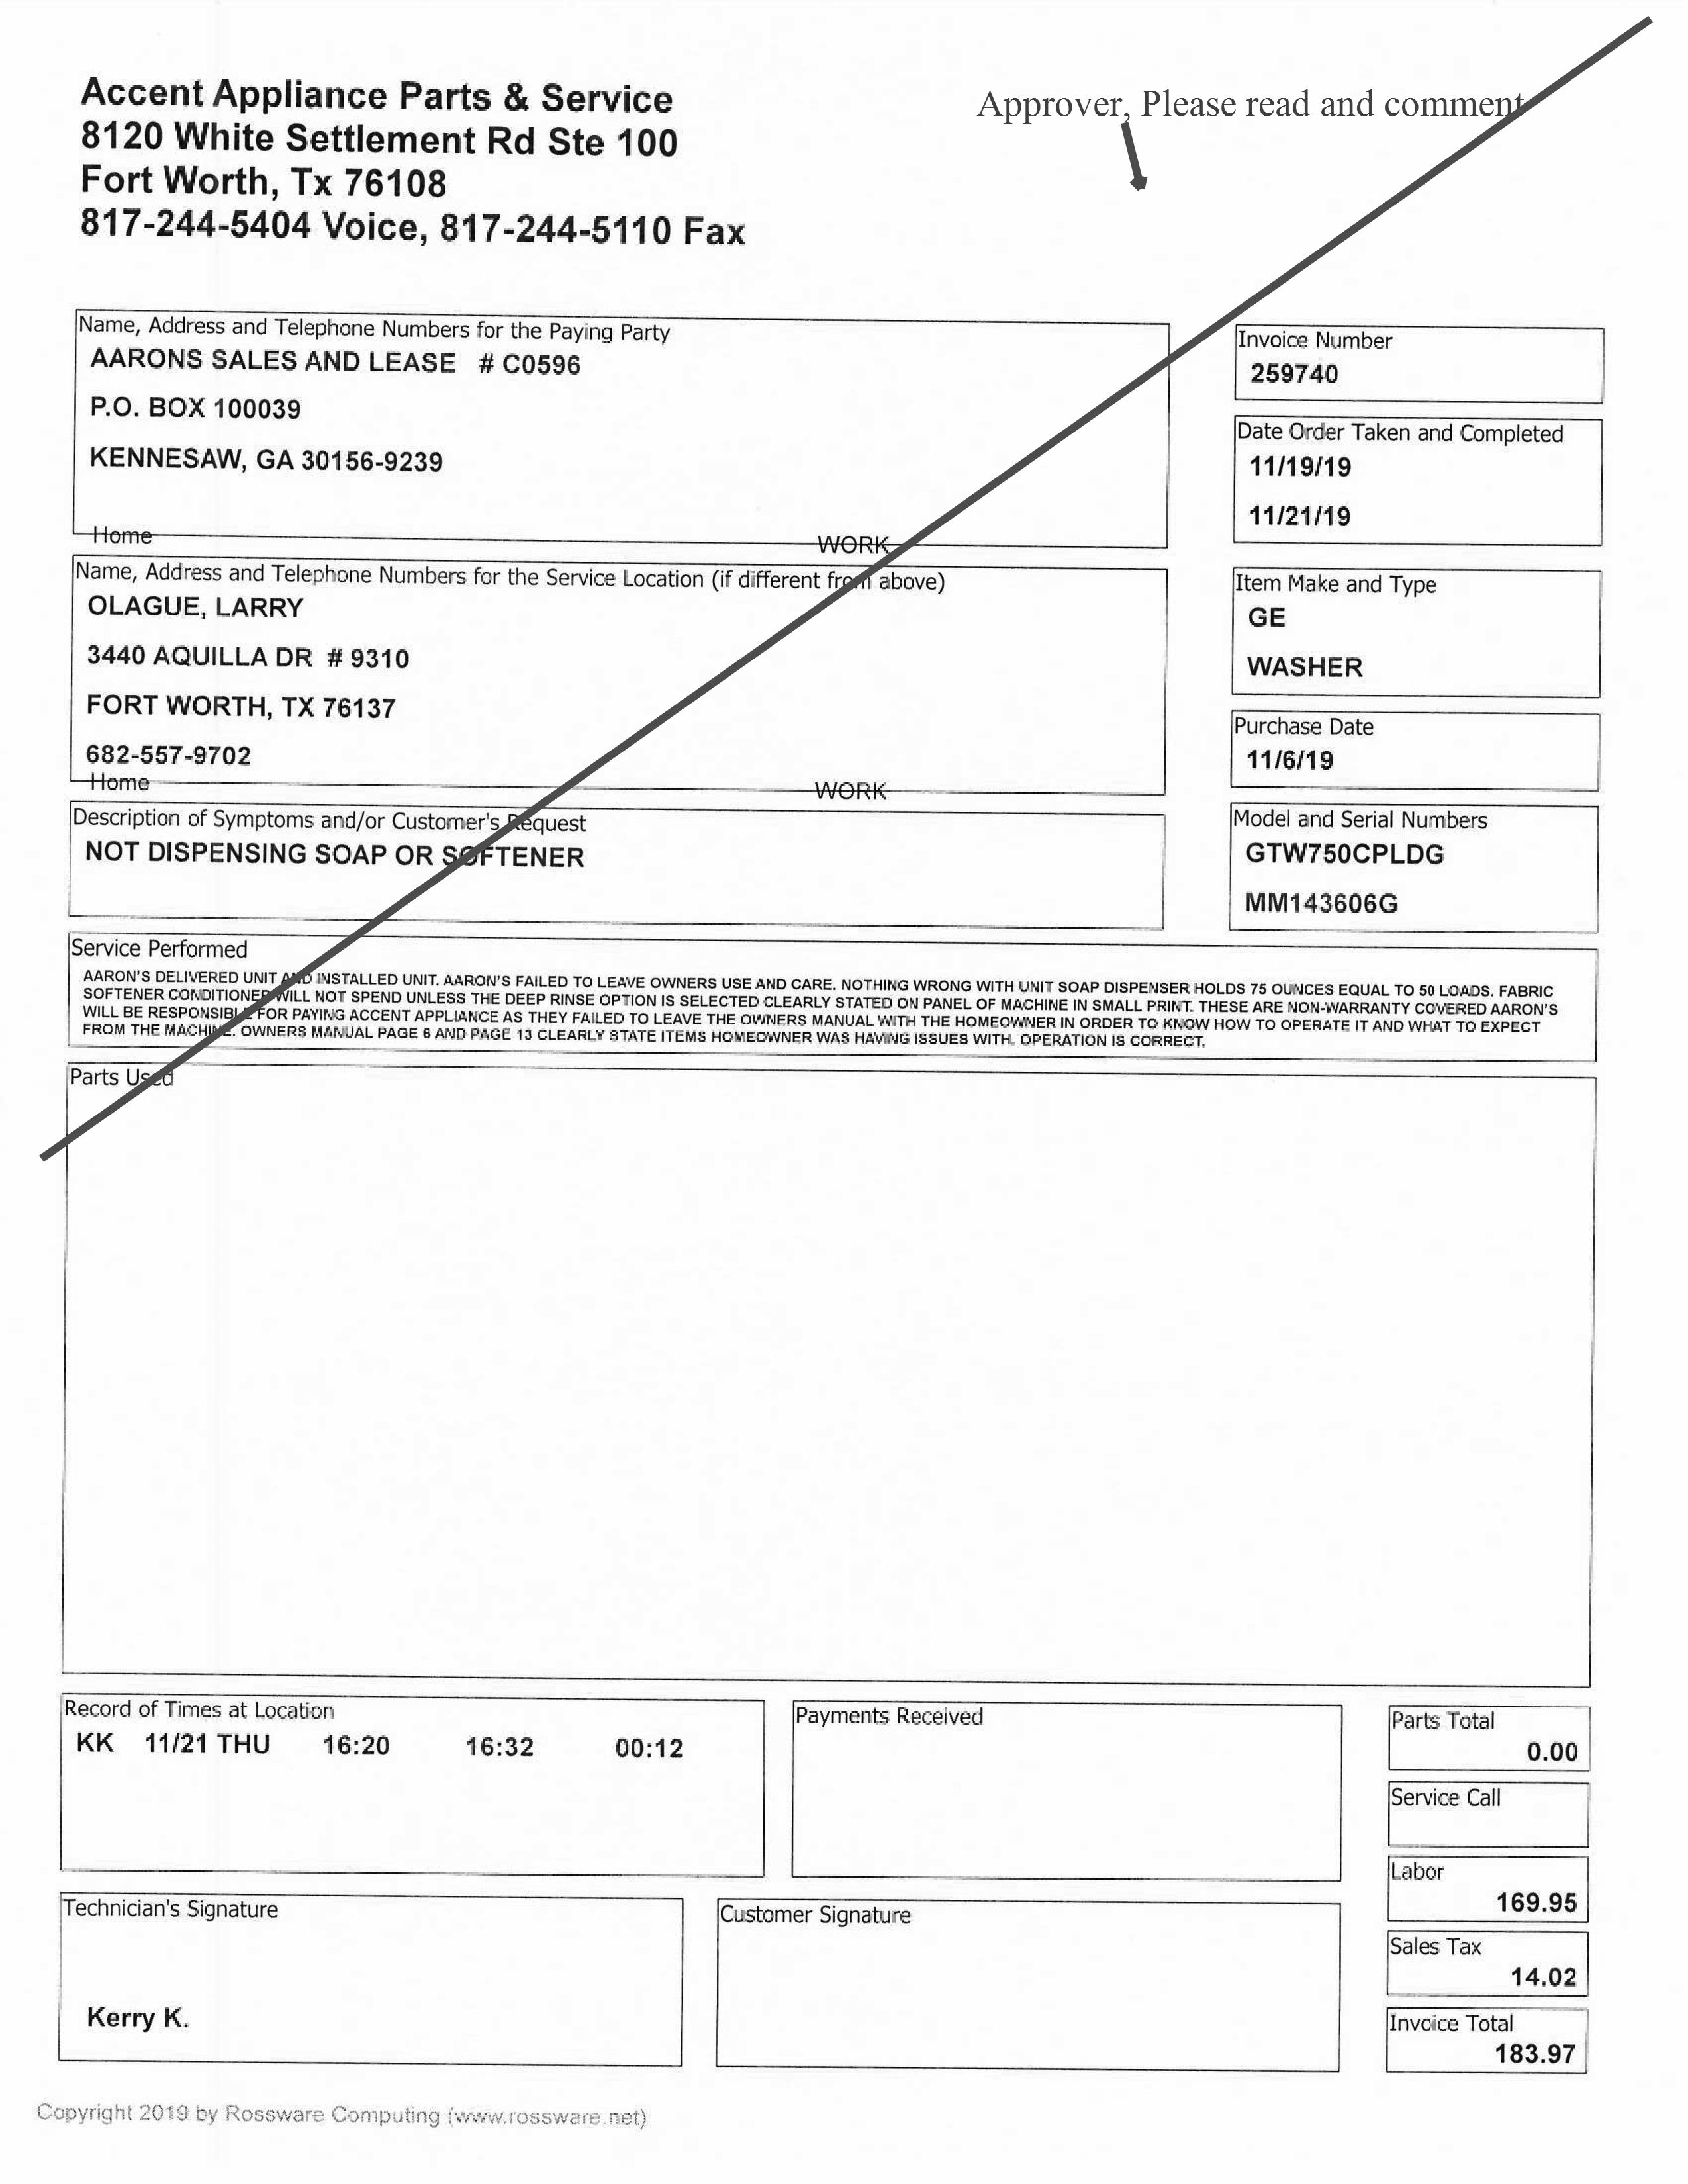B_Paragraph: (78, 74, 761, 269), (76, 961, 1571, 1049), (89, 335, 590, 511), (78, 592, 415, 769), (30, 2076, 661, 2147), (62, 1721, 723, 1785), (956, 74, 1543, 126), (83, 837, 596, 890), (1232, 838, 1449, 922), (1238, 601, 1369, 686), (1241, 447, 1367, 535), (66, 1991, 209, 2046), (1479, 2035, 1599, 2078), (812, 523, 918, 571), (1477, 1884, 1585, 1923), (1245, 358, 1362, 390), (1238, 745, 1356, 775), (805, 768, 888, 810), (1495, 1957, 1590, 1991), (83, 518, 160, 558), (1520, 1739, 1585, 1780), (89, 768, 165, 798)
B_SubTitle: (82, 557, 952, 601), (73, 303, 668, 349), (71, 808, 601, 846), (1238, 417, 1578, 454), (62, 1890, 293, 1936), (59, 1686, 328, 1725), (1234, 558, 1452, 606), (1234, 798, 1500, 833), (707, 1897, 931, 1938), (67, 936, 257, 971), (800, 1704, 989, 1735), (1387, 2007, 1530, 2042), (71, 1065, 199, 1097), (1387, 1778, 1512, 1810), (1385, 1704, 1502, 1737), (1239, 324, 1401, 347), (1390, 1930, 1489, 1957), (1385, 1860, 1472, 1883)
